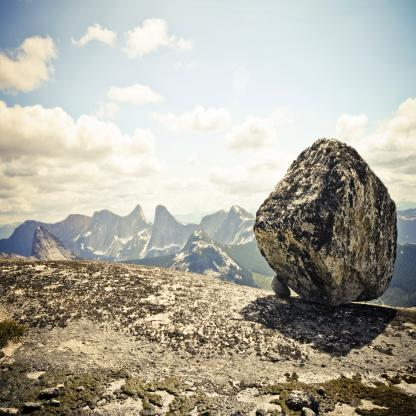Igneous_Granite: (246, 124, 402, 325)
